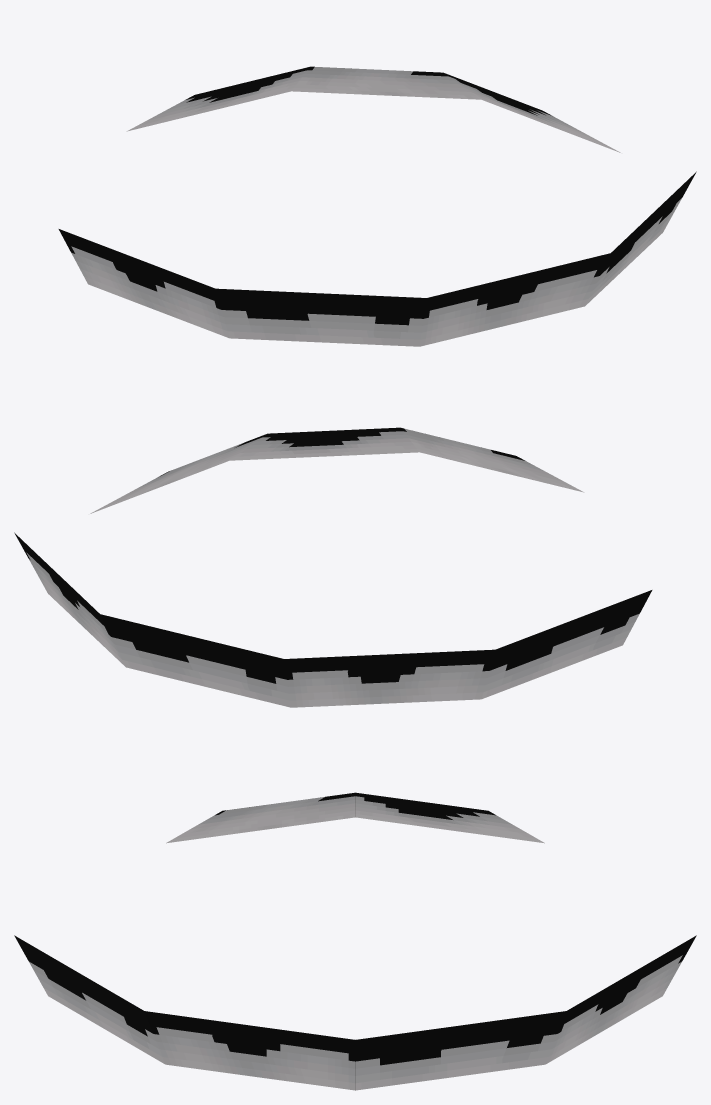
File: 29_efe.gltf
3 renders of one model, top to bottom at view 1: azimuth 30°, elevation 25°; view 2: azimuth 150°, elevation 25°; view 3: azimuth 270°, elevation 25°, orthographic. The views are drawn at different scales.
Bounding box in the file's own units: 820 × 83 × 780.
1 material, 1 textured.
